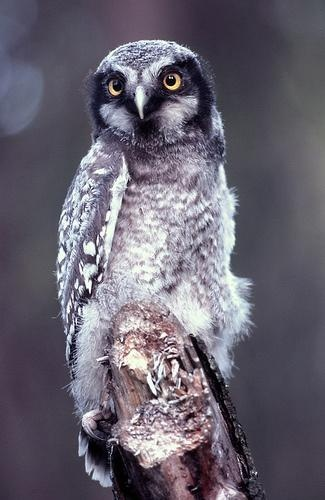bird: (57, 41, 254, 488)
